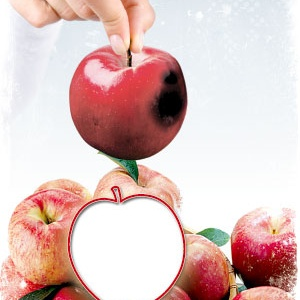apple: (71, 45, 189, 157), (7, 192, 95, 281), (92, 162, 183, 235), (230, 206, 300, 286), (169, 232, 231, 294)
